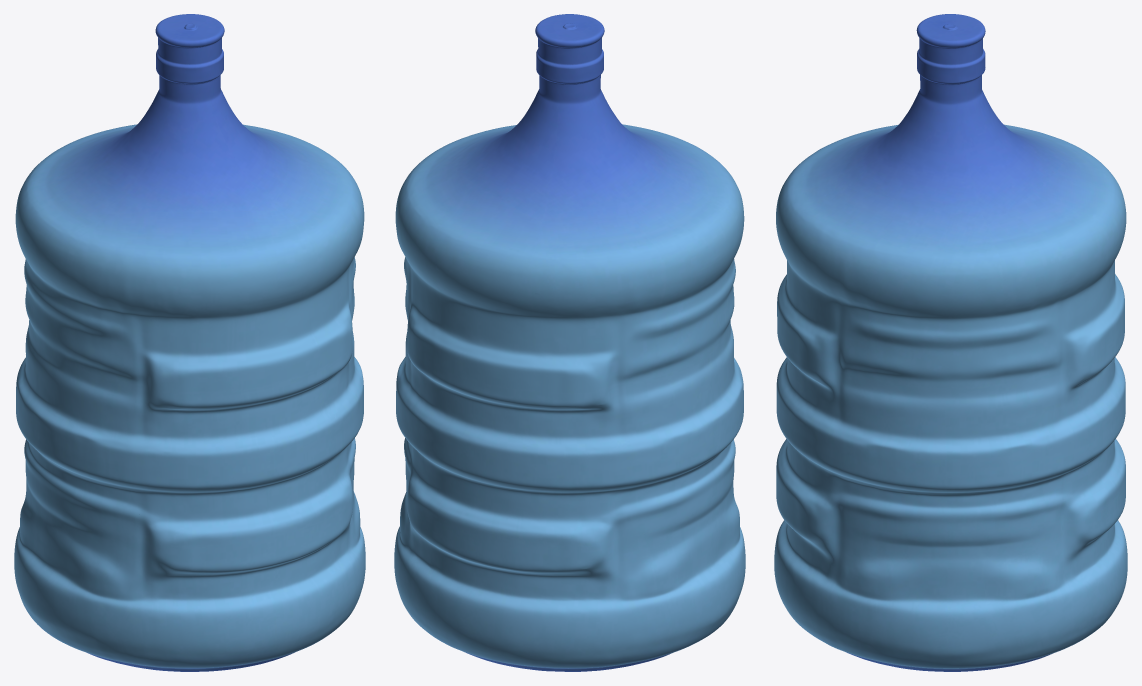
The model's file is galon.glb.
3 renders of one model, left to right at view 1: azimuth 30°, elevation 25°; view 2: azimuth 150°, elevation 25°; view 3: azimuth 270°, elevation 25°, orthographic.
Parts seen in each view (by area): view 1: tripo_node_084fae2f-2ad6-4f20-8f13-d142a7c49a0a; view 2: tripo_node_084fae2f-2ad6-4f20-8f13-d142a7c49a0a; view 3: tripo_node_084fae2f-2ad6-4f20-8f13-d142a7c49a0a.
Part boxes in pixels (x1,y1,x2,y2): tripo_node_084fae2f-2ad6-4f20-8f13-d142a7c49a0a: (14,14,365,671); tripo_node_084fae2f-2ad6-4f20-8f13-d142a7c49a0a: (394,14,745,671); tripo_node_084fae2f-2ad6-4f20-8f13-d142a7c49a0a: (774,14,1127,671).
Size of the model in its own units: 0.5429 by 1 by 0.5448.
1 material, 1 textured.
